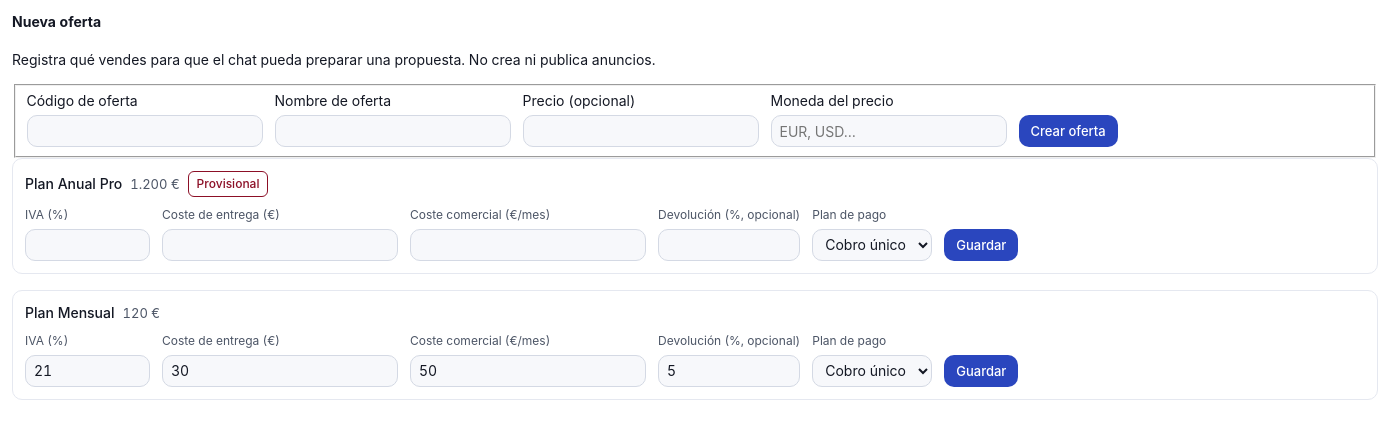
it: OfferingsEconomicsTable › un 422 del servidor se muestra sin romper la fila
Expected: the text "Plan Anual Pro" is shown, [25,174,122,194]
Type "21" into the number field labelled "IVA (%)" below "Plan Anual Pro".
click(88, 245); type("21")  # box [25,229,150,261]
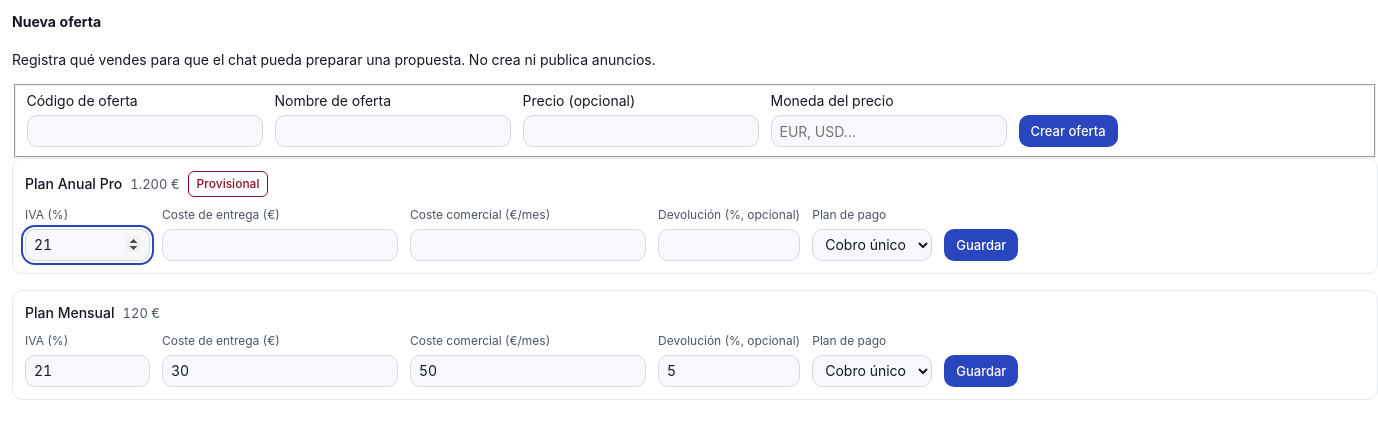
Type "90" into the number field labelled "Coste de entrega (€)" below "Plan Anual Pro".
click(280, 245); type("90")  # box [162,229,398,261]
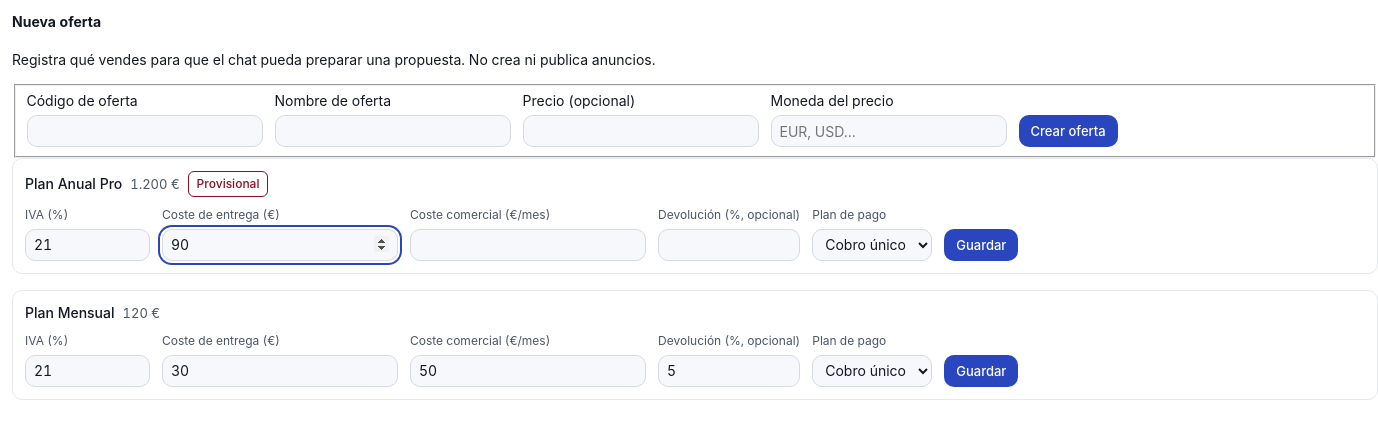
Type "140" into the number field labelled "Coste comercial (€/mes)" below "1.200 €".
click(528, 245); type("140")  # box [410,229,646,261]
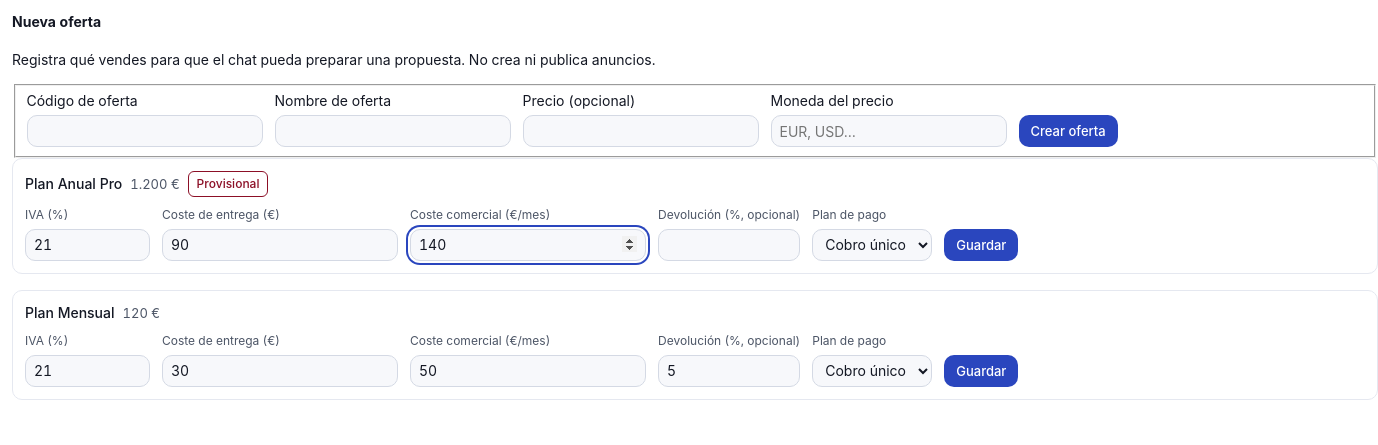
Click the button with aria-label "Guardar economía de Plan Anual Pro".
click(981, 245)  # box [944,229,1018,261]
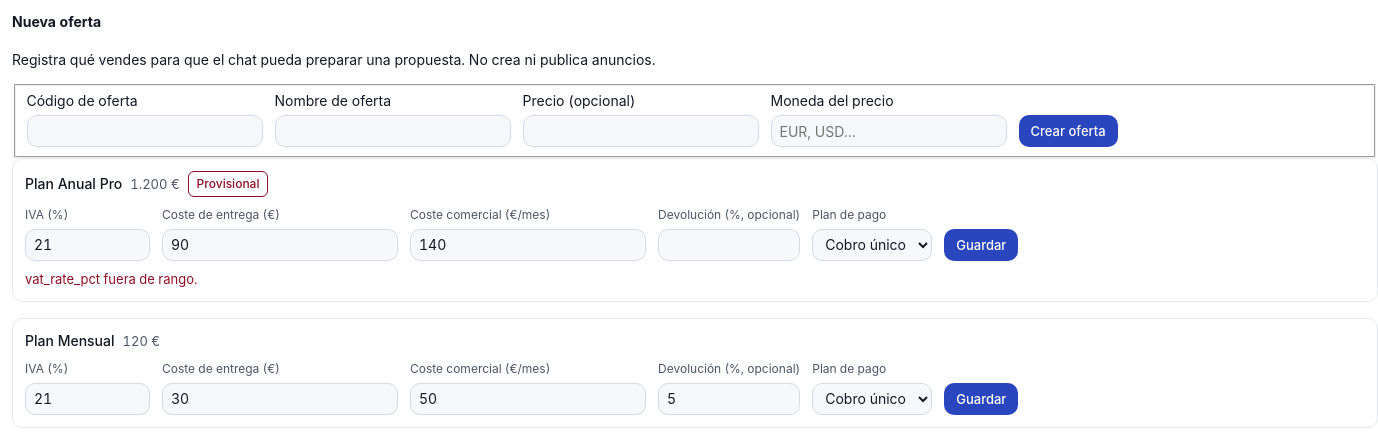
Result: the text "vat_rate_pct fuera de rango." is shown at [25,271,198,287]
